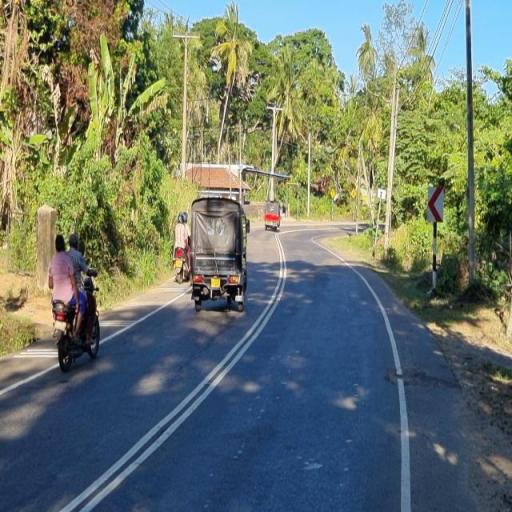double_white_line: (55, 231, 290, 512)
